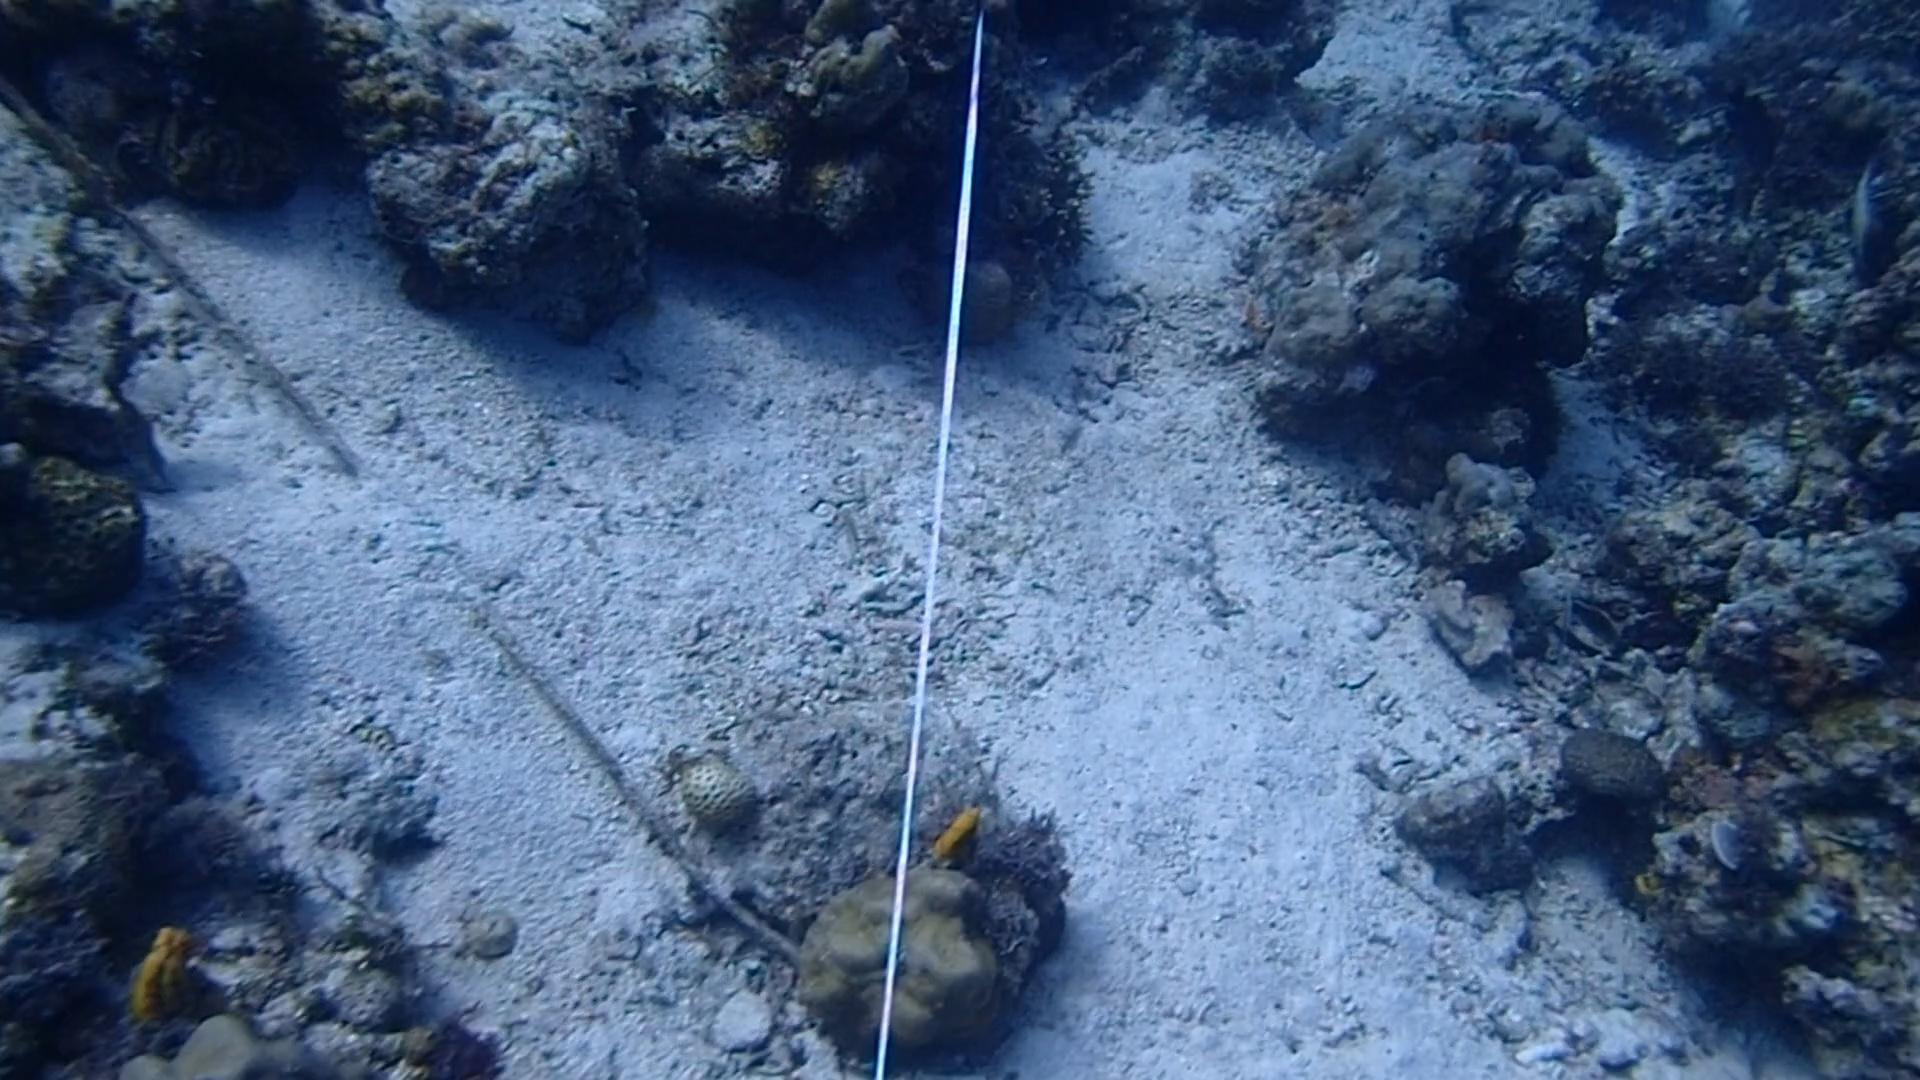Dark Fish: (1709, 69, 1787, 183)
